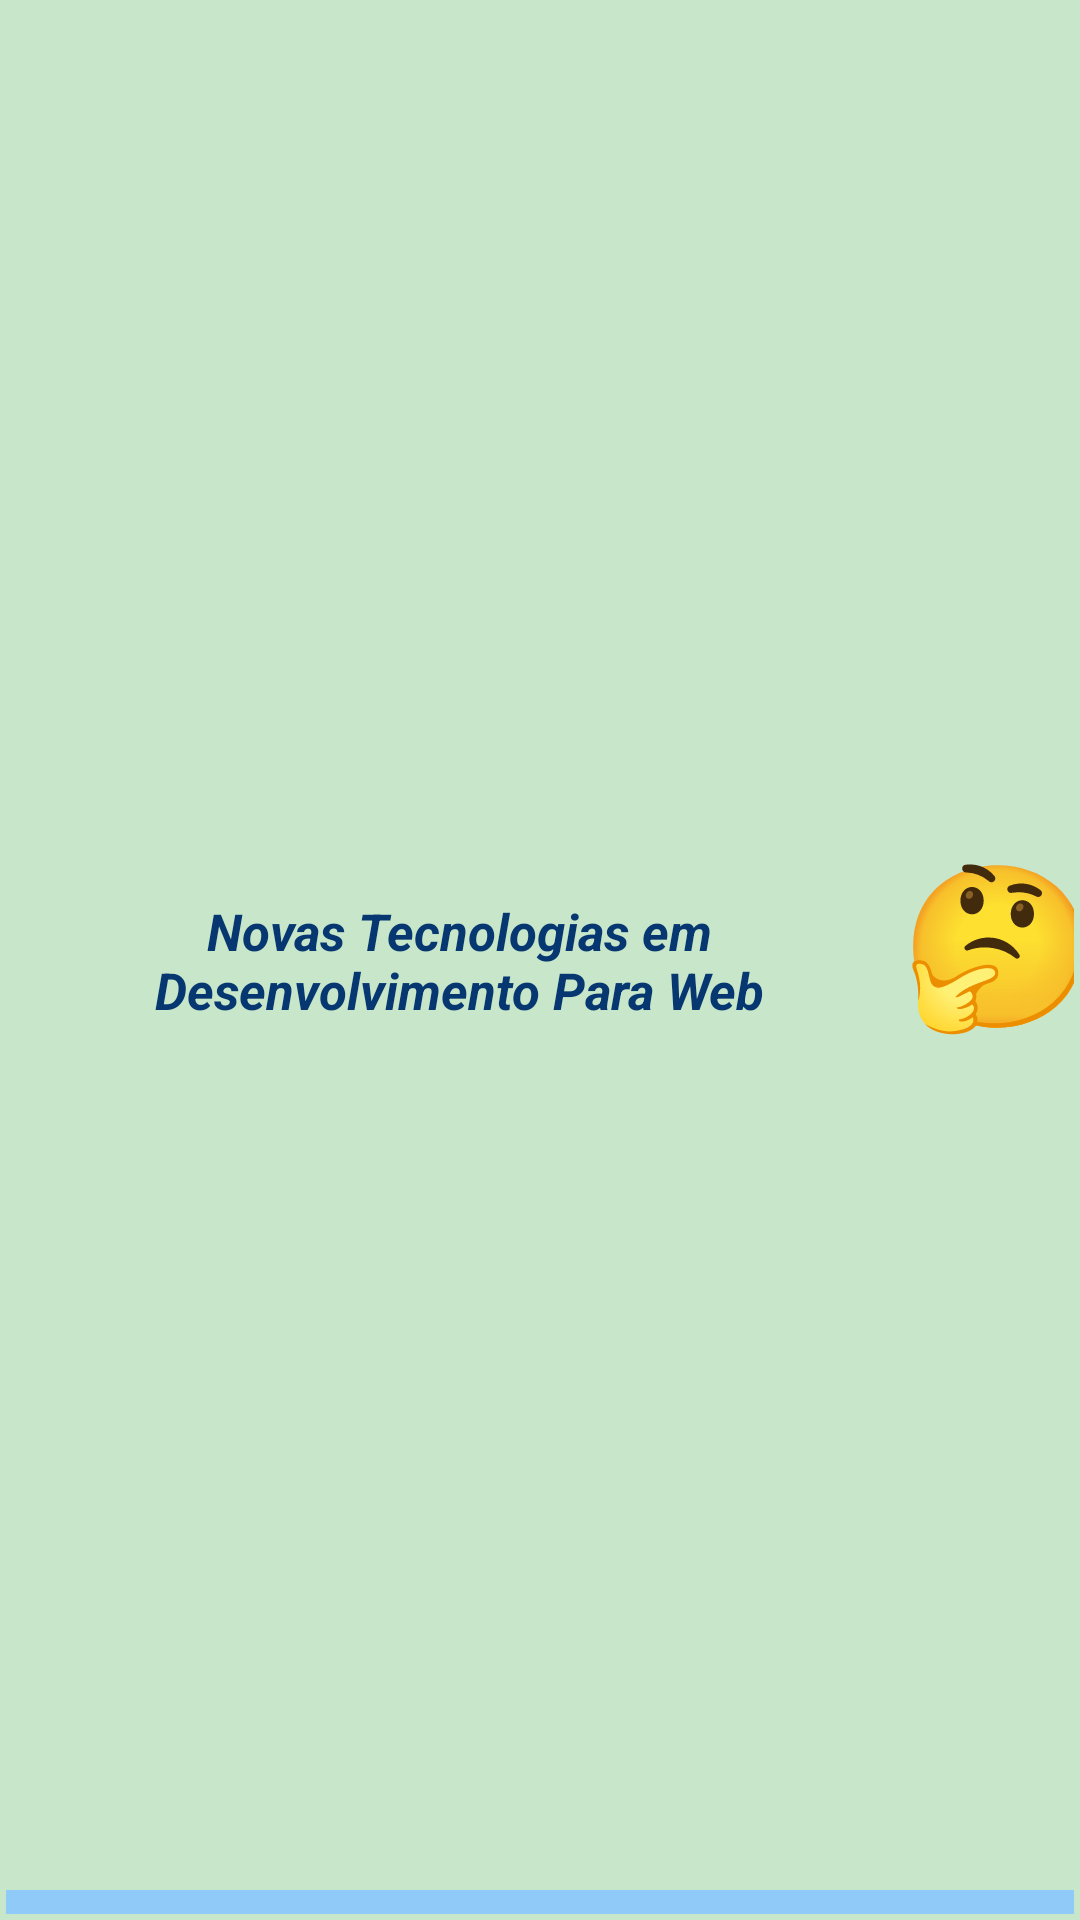

Icon click points for this 1080px x 1920px phone screenshot, format point (x, y):
thinking: point (993, 949)
